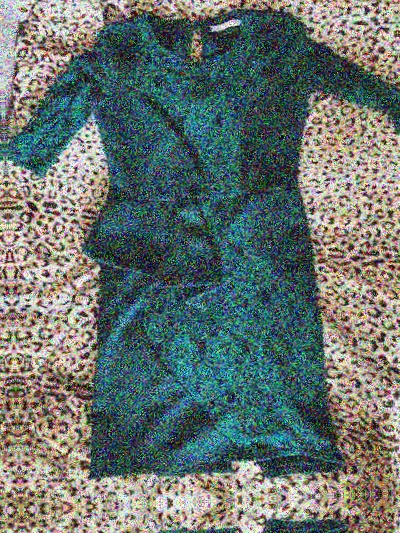Dress: (0, 0, 400, 494), (23, 508, 400, 533), (0, 0, 18, 513), (397, 0, 400, 476), (0, 526, 42, 533)
